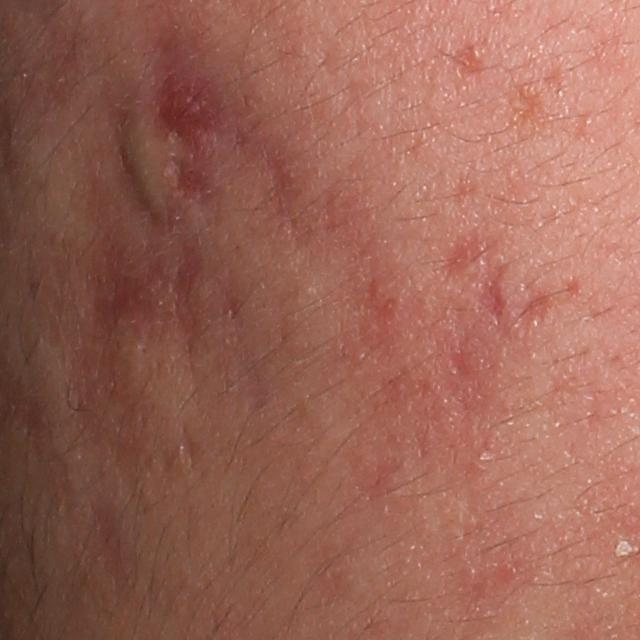atrophic_scar: (60, 223, 133, 476), (160, 38, 247, 215), (126, 243, 206, 353), (211, 281, 271, 415), (348, 257, 415, 363), (435, 222, 482, 296), (260, 143, 299, 221), (437, 332, 487, 391), (475, 265, 511, 332), (519, 287, 558, 338), (445, 40, 487, 82)
hypertrophic_scar: (118, 99, 179, 240)
